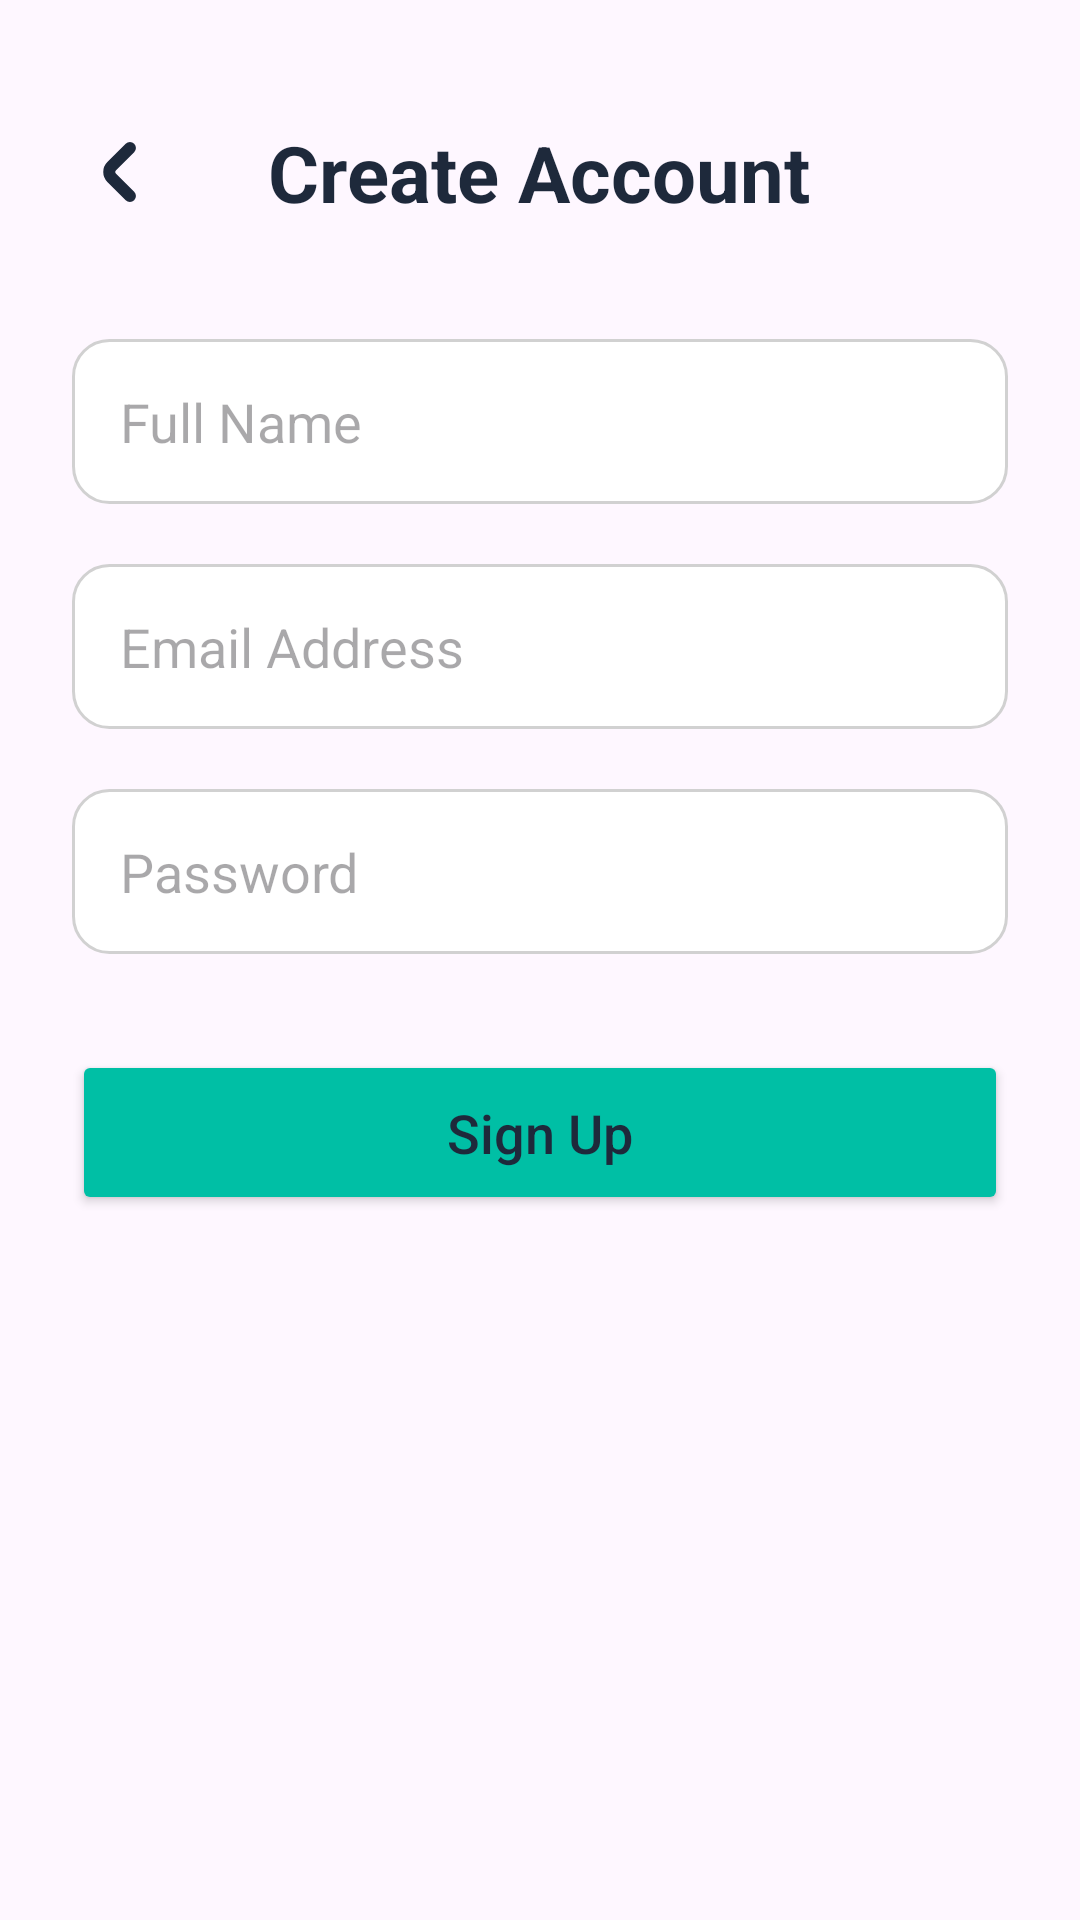

Named icons in this screenshot (1080 x 1920) and their bounding boxes, (x1, y1, x2, y2):
Back to Login: (103, 142, 136, 202)
